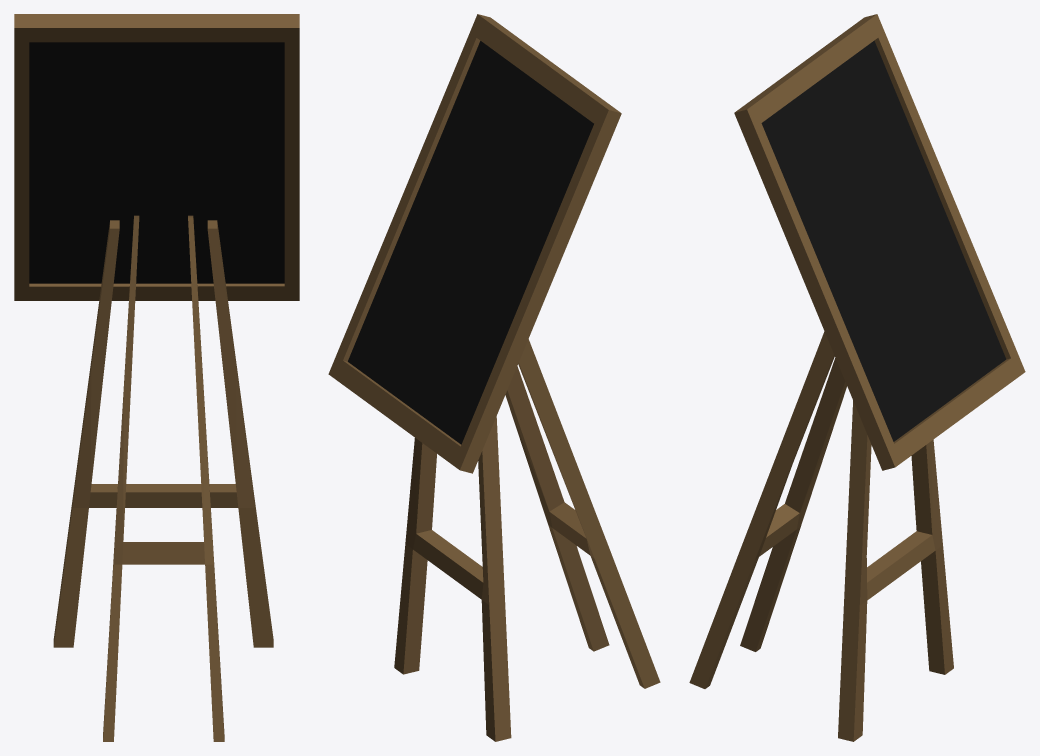
Rendered from Menu.fbx.
3 views of the same model, side by side, from view 1: azimuth 30°, elevation 25°; view 2: azimuth 150°, elevation 25°; view 3: azimuth 270°, elevation 25° (orthographic). The views are drawn at different scales.
Visible parts, largest first — view 1: Menu; view 2: Menu; view 3: Menu.
Boxes of the visible parts, <box> form: Menu: <box>14,14,299,741</box>; Menu: <box>328,14,660,741</box>; Menu: <box>689,14,1025,741</box>.
Bounding box in the file's own units: 78.55 × 82.8 × 169.
